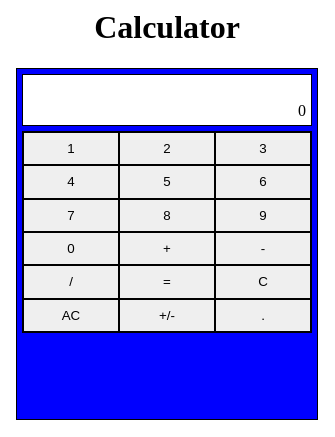
Scenario: calculator should render a keyboard › with numerical buttons › where a user can press 1
Click the button "1".
click(71, 149)  # box 23,132 -> 119,165
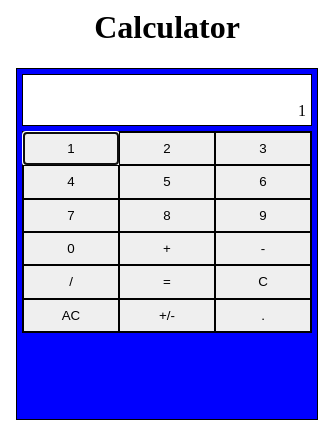
Result: the text with test id "Display" reads "1" at 298,102 -> 306,119
